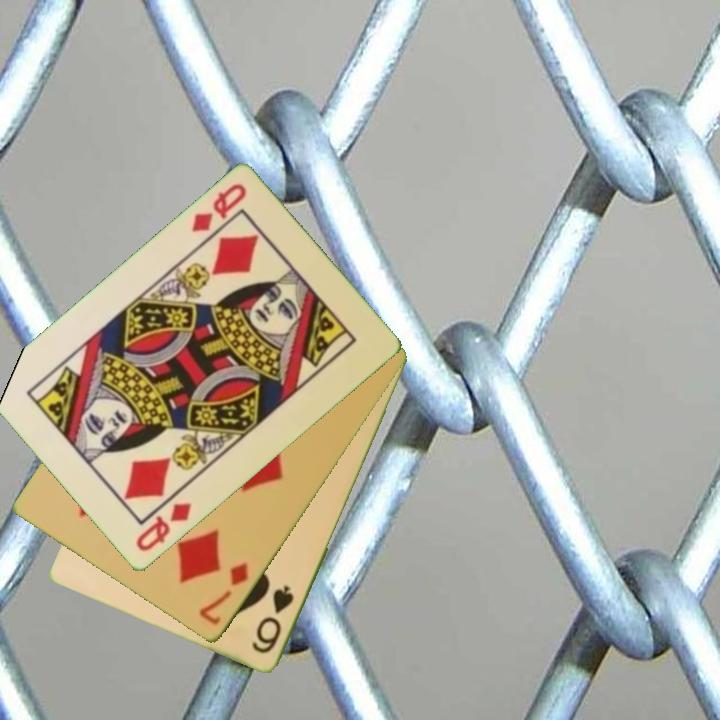6s: (248, 582, 297, 657)
7d: (195, 559, 252, 629)
Qd: (132, 499, 195, 555), (188, 180, 250, 236)
